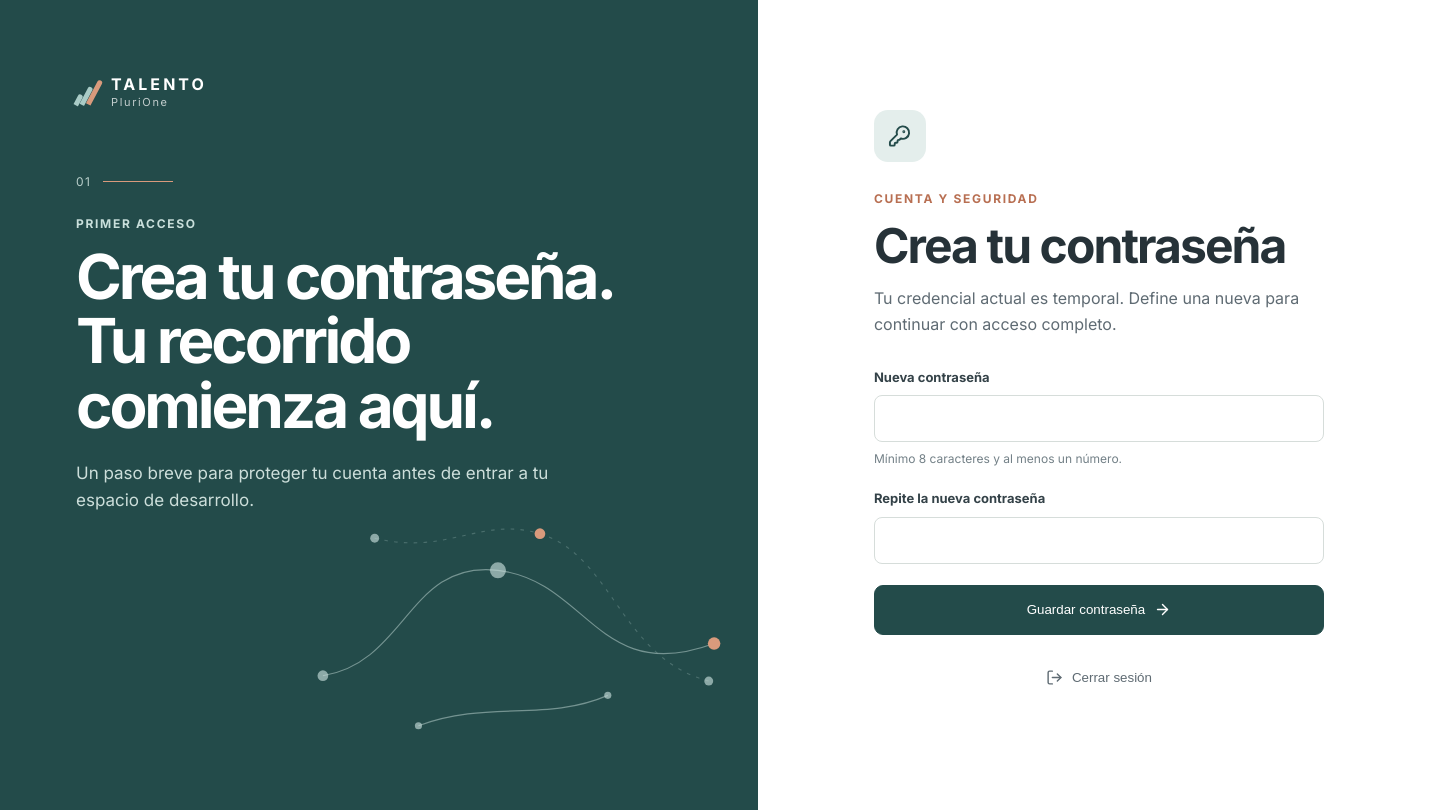
CambioContrasena — resultados › un error de política se muestra legible y sin detalles técnicos
Type "corta1" into the password field labelled "Nueva contraseña".
click(1099, 419); type("corta1")  # box [874,395,1324,442]
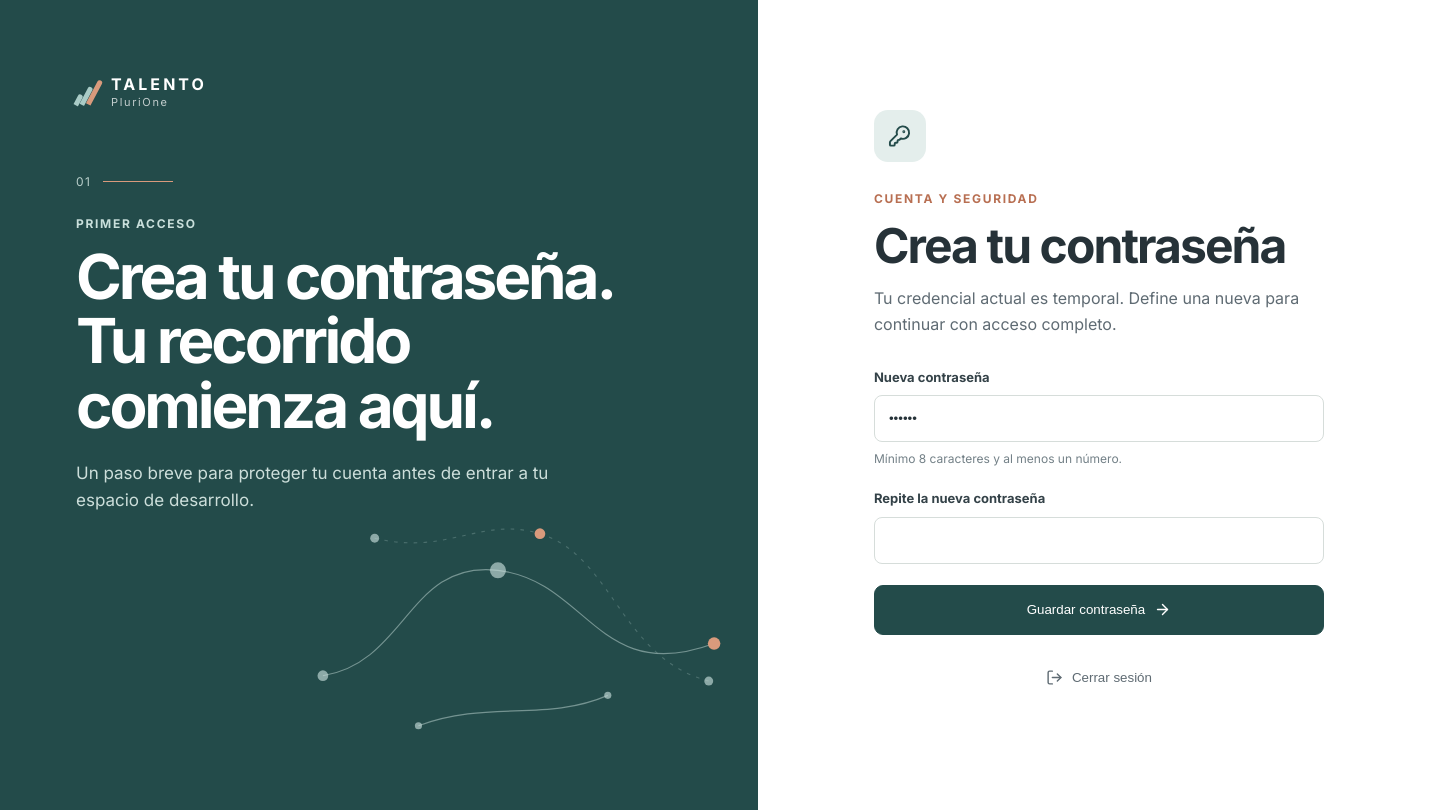
Type "corta1" into the password field labelled "Repite la nueva contraseña".
click(1099, 540); type("corta1")  # box [874,517,1324,564]
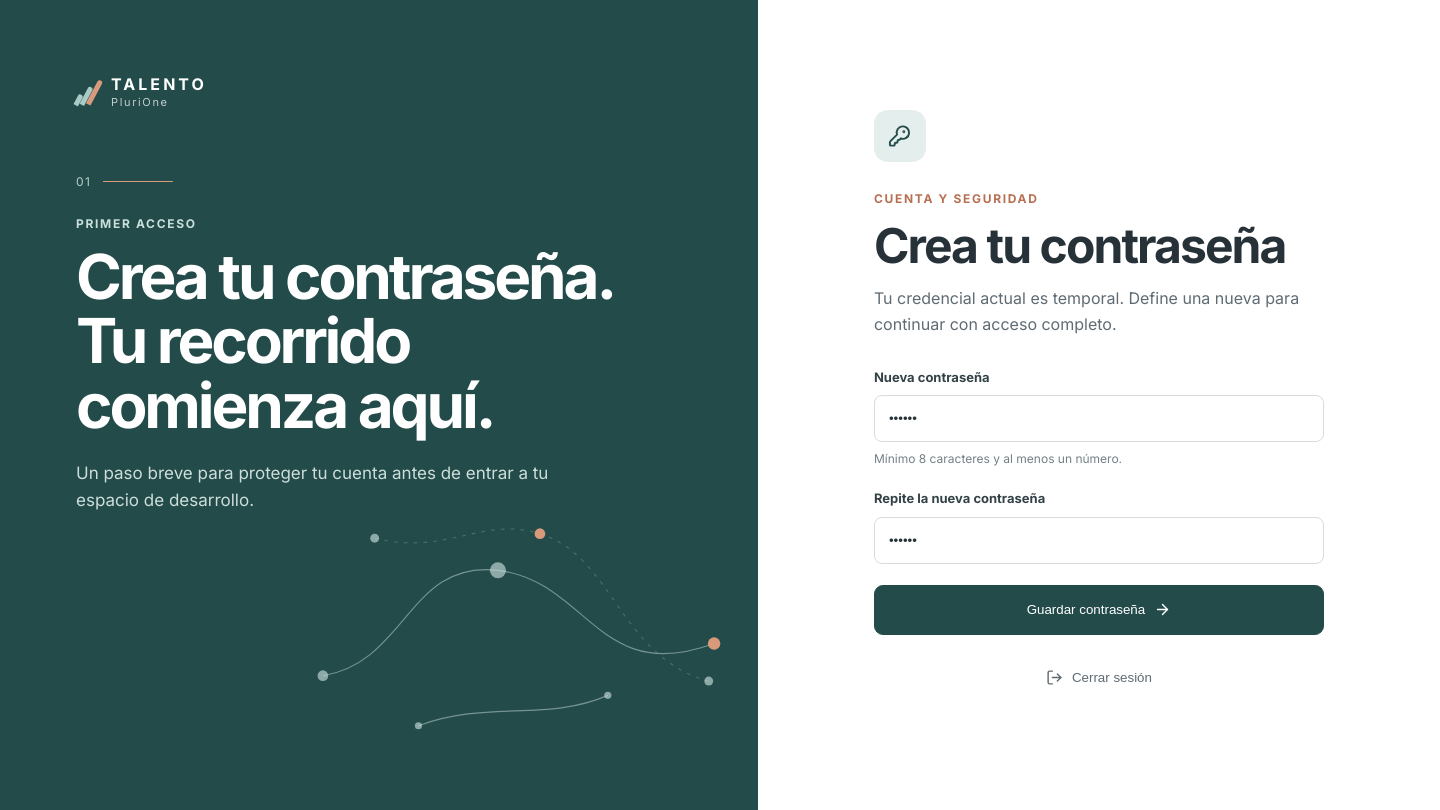
Click the button "Guardar contraseña".
click(1099, 610)  # box [874,585,1324,635]
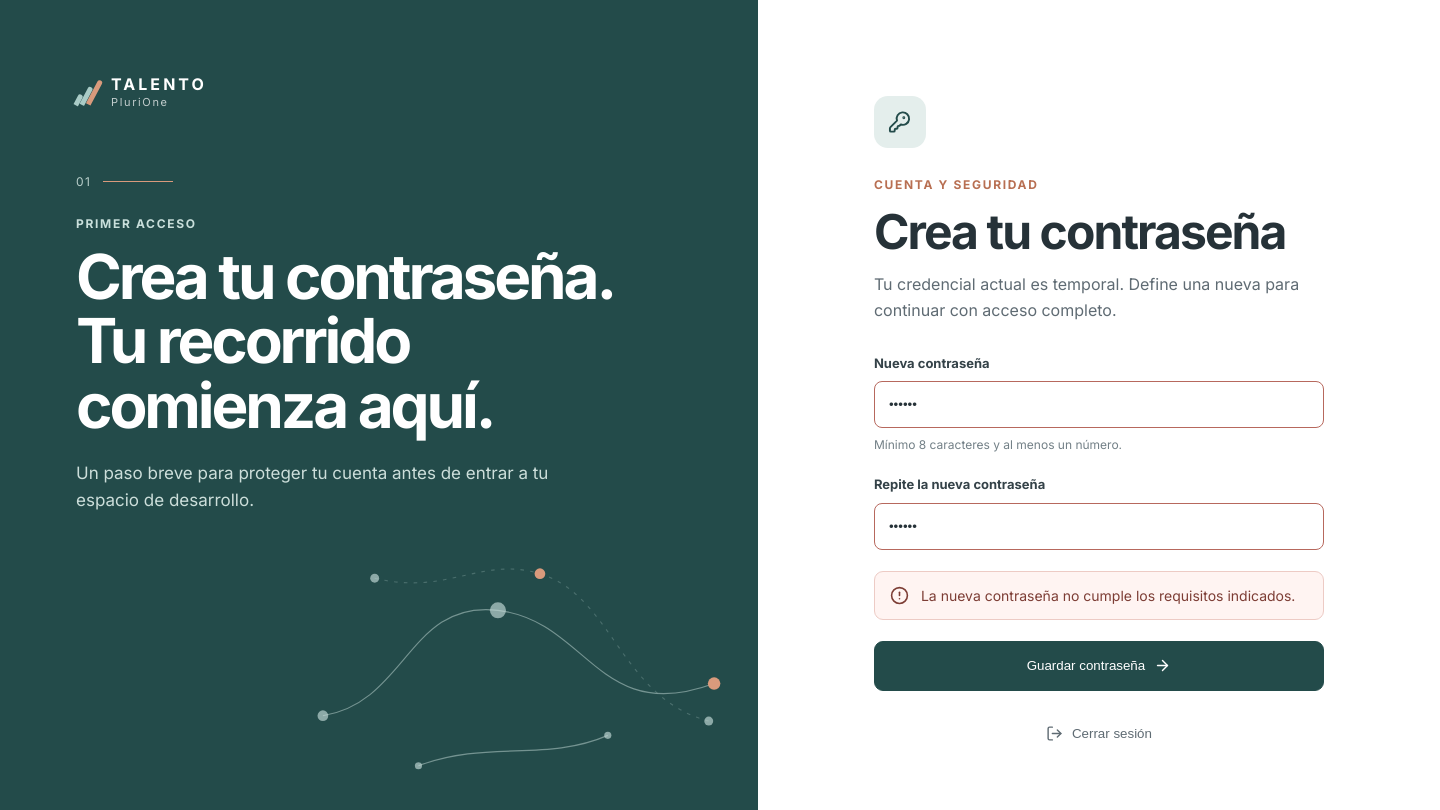
Expected: the message does not show "Value error", [874,571,1324,620]
Expected: the message shows "no cumple los requisitos indicados", [921,587,1295,604]
